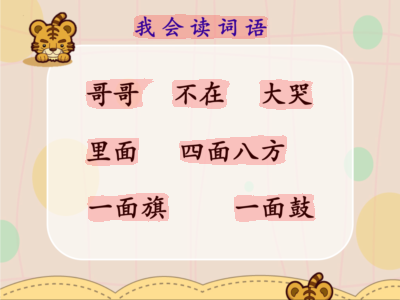text: (136, 15, 266, 39), (180, 138, 283, 163), (89, 195, 168, 219), (235, 197, 313, 218), (87, 79, 138, 107), (173, 81, 226, 107), (84, 138, 136, 163), (262, 82, 311, 106)
